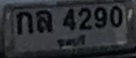txt01: (14, 10, 34, 35)
txt31: (35, 9, 54, 34)
